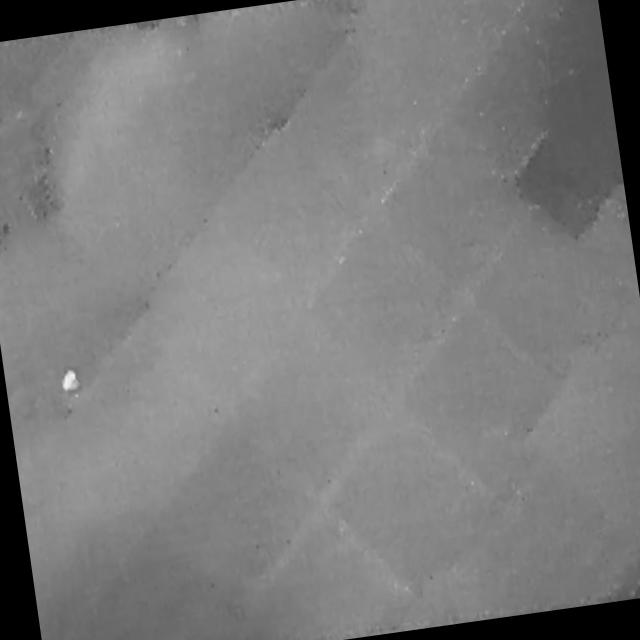person: (61, 367, 83, 394)
